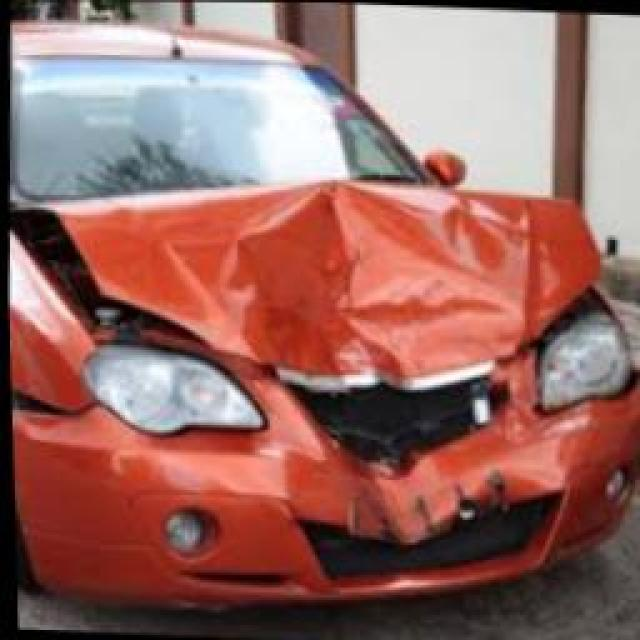Bonnet: (38, 175, 587, 361)
Bumper: (15, 412, 640, 632)
